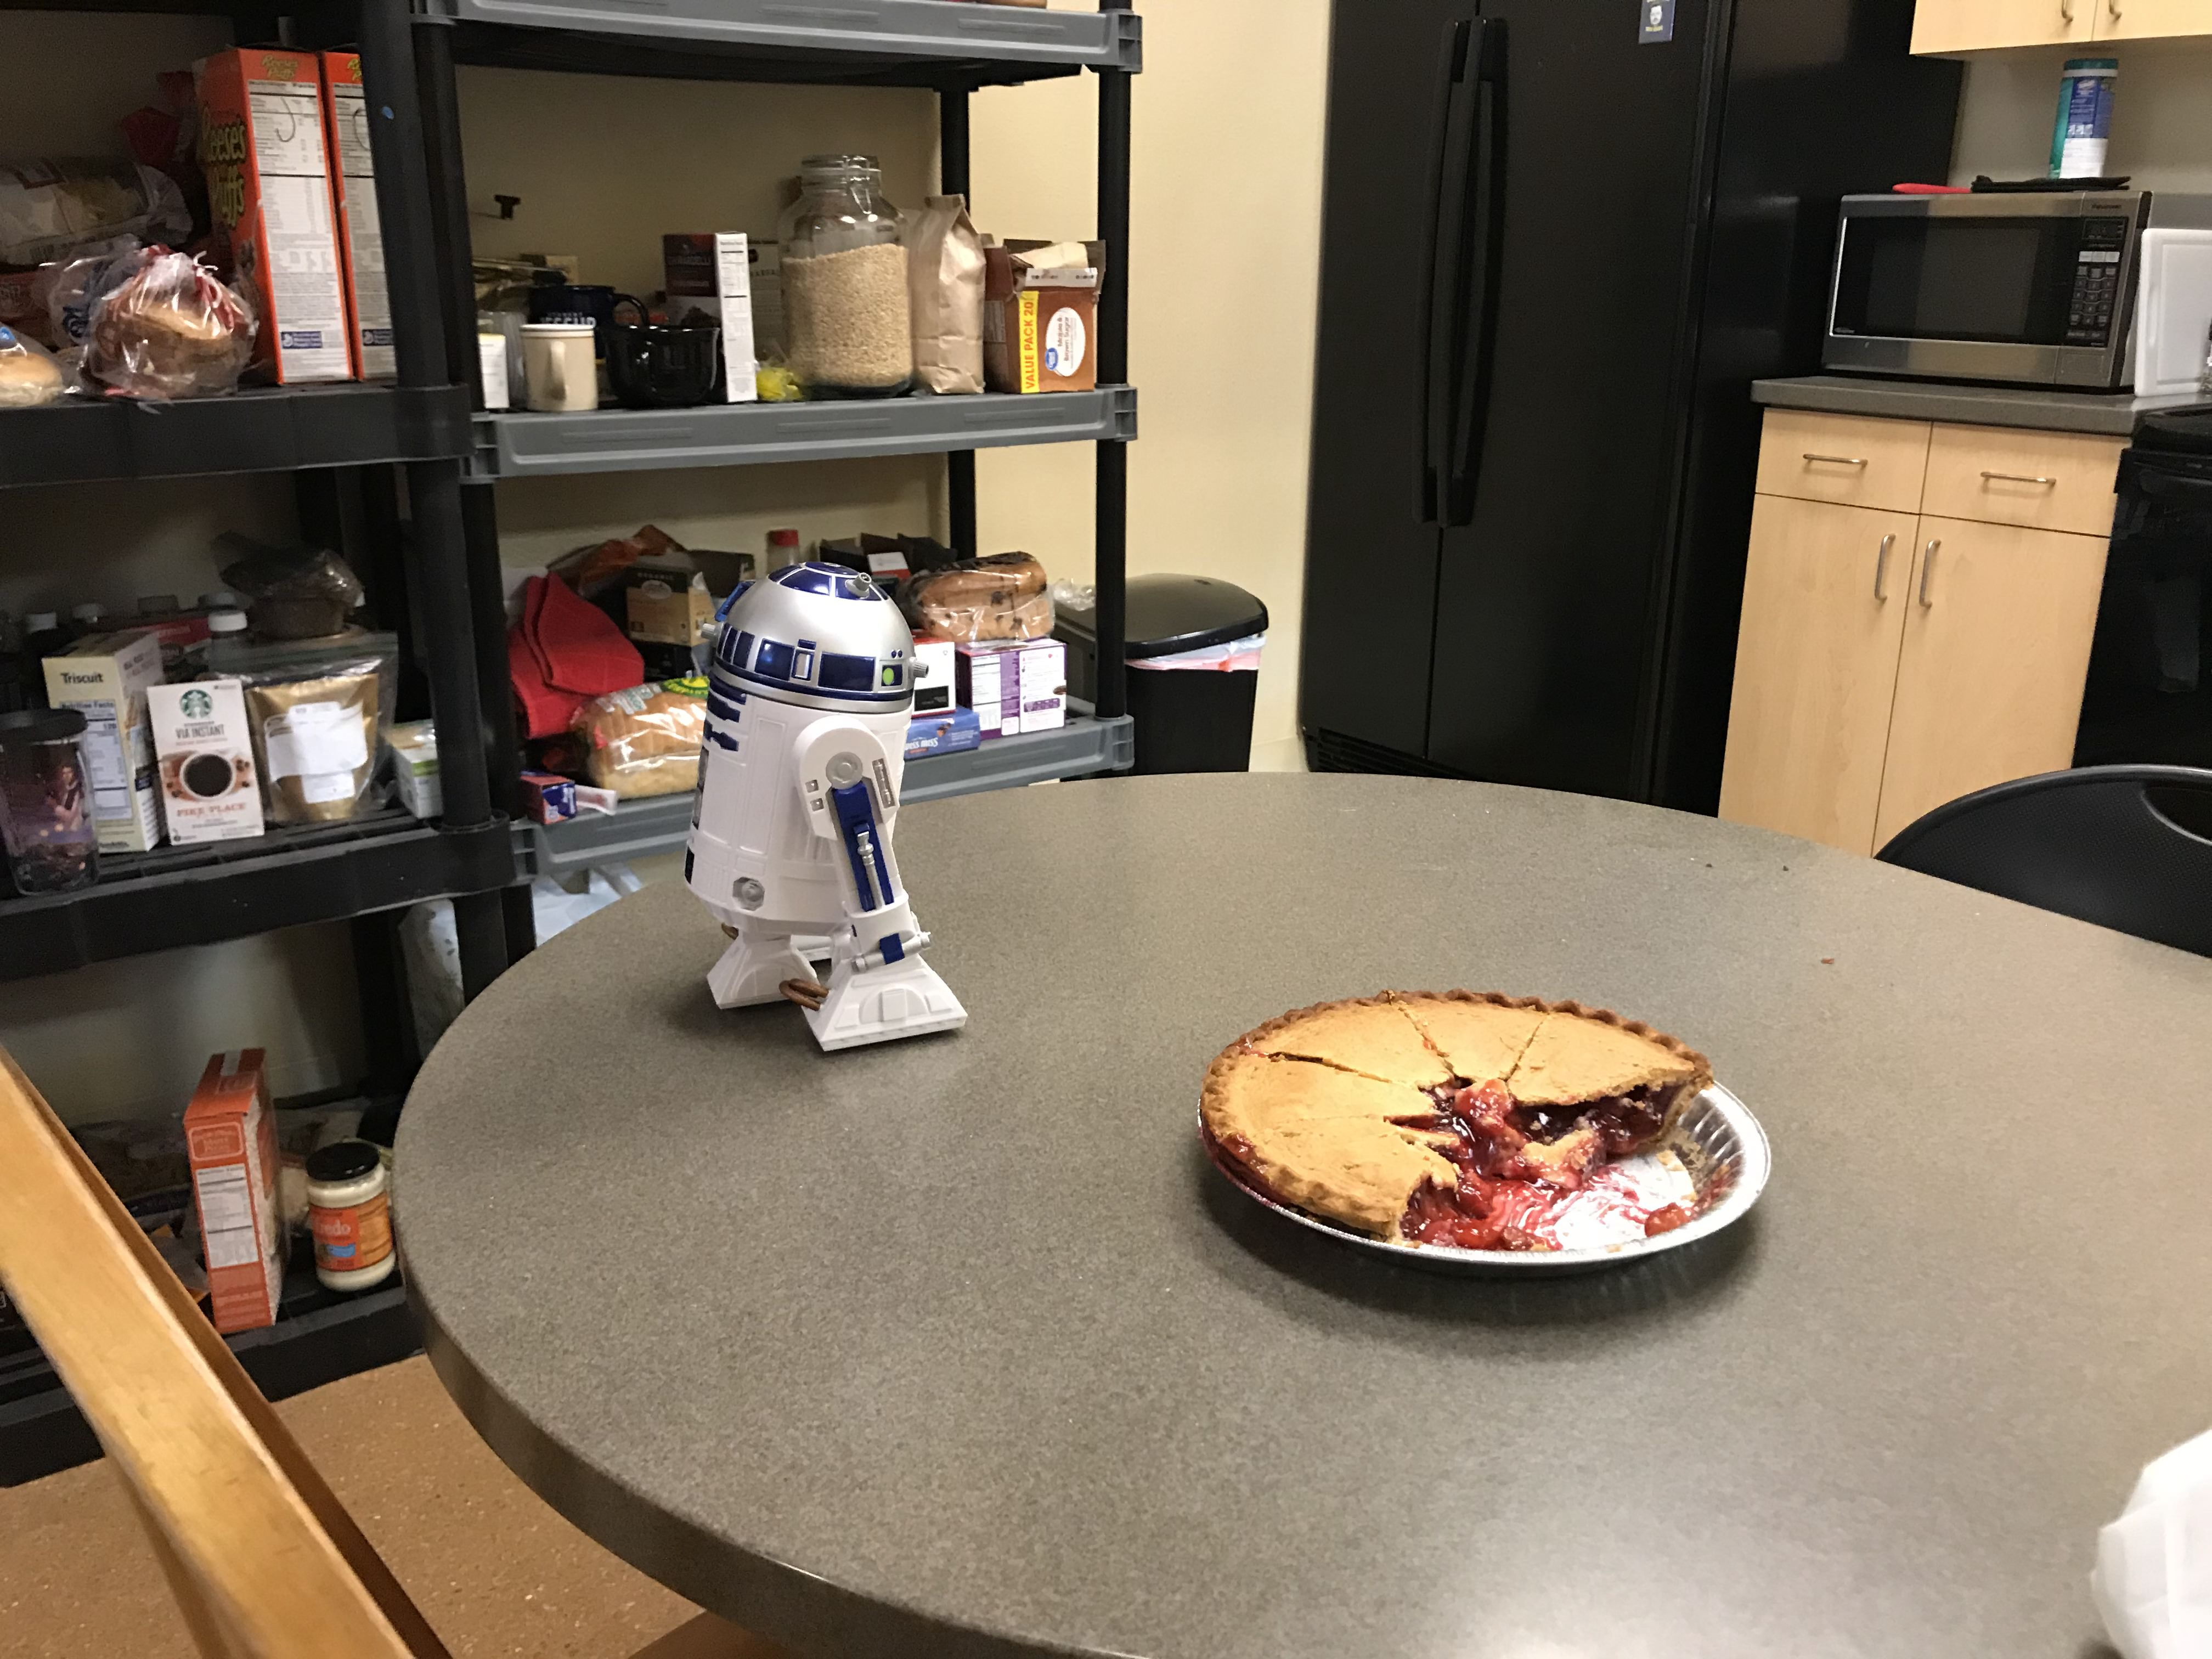r2d2: (685, 558, 970, 1056)
